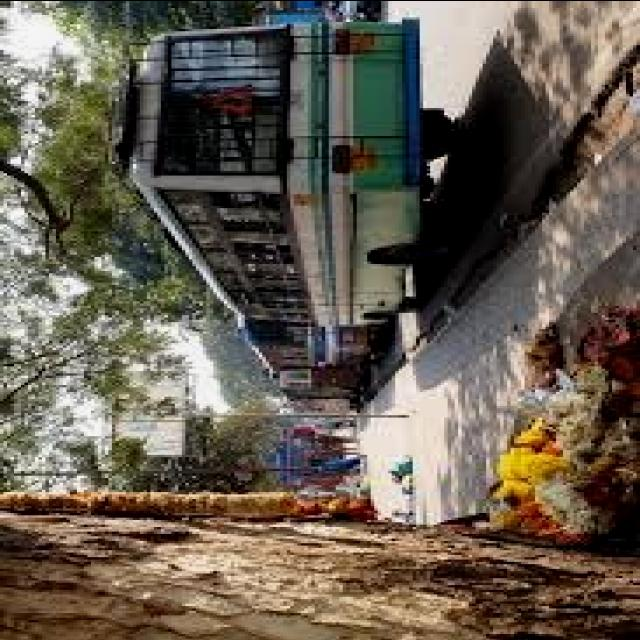bus: (90, 7, 473, 328), (227, 320, 388, 384), (255, 362, 365, 418)
